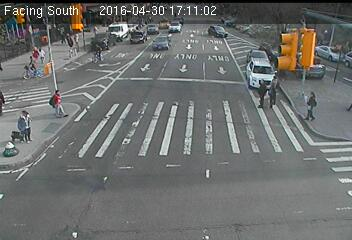neg: (307, 136, 336, 174), (280, 25, 306, 60), (116, 122, 140, 155), (229, 181, 250, 209), (213, 66, 234, 94), (130, 80, 151, 107), (77, 162, 97, 189), (202, 102, 221, 128), (90, 43, 106, 65), (156, 32, 169, 49), (213, 22, 223, 36)
pos: (11, 107, 38, 143), (300, 90, 325, 124), (251, 76, 276, 110), (46, 88, 69, 119), (263, 81, 284, 109), (27, 45, 44, 67), (71, 31, 84, 49), (37, 46, 50, 63)
